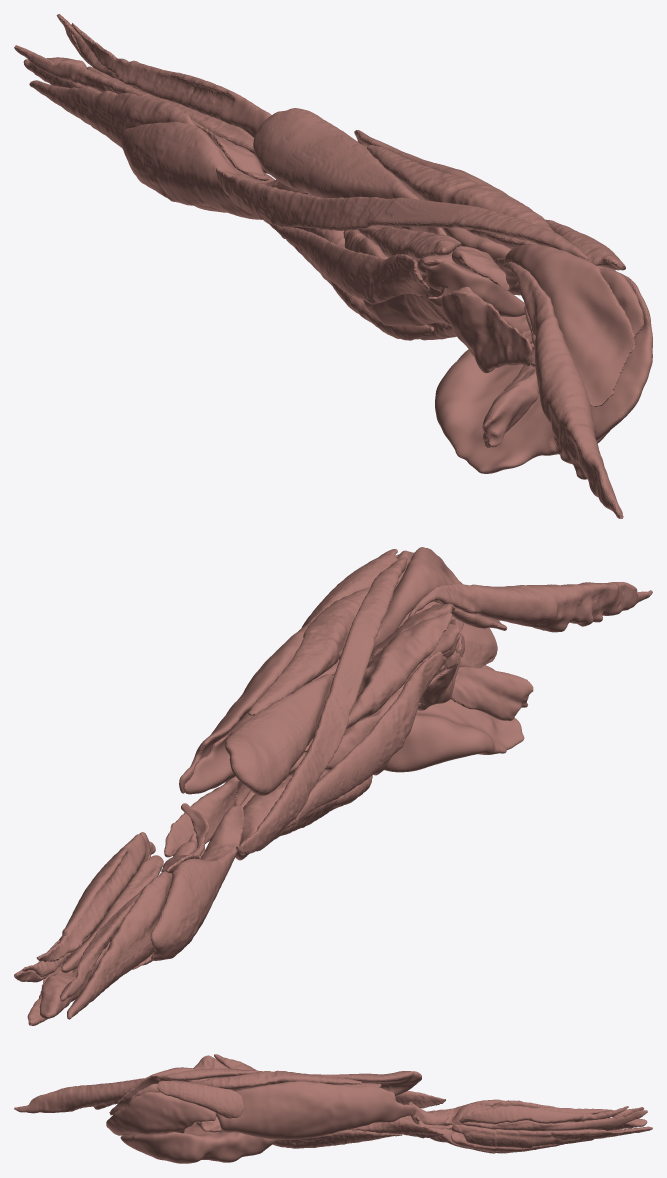
The model's file is vhf-right-muscle.glb.
The picture shows the model from 3 angles, top to bottom: view 1: azimuth 30°, elevation 25°; view 2: azimuth 150°, elevation 25°; view 3: azimuth 270°, elevation 25°; orthographic projection. The views are drawn at different scales.
Visible parts, largest first — view 1: vhf-right-muscle-illiacus, vhf-right-muscle-sartorius, vhf-right-muscle-vastusmedialis, vhf-right-muscle-psoasmajor, vhf-right-muscle-gluteusmaximus, vhf-right-muscle-gastrocnemiusmedial, vhf-right-muscle-gracilis, vhf-right-muscle-tibialisanterior, vhf-right-muscle-rectusfemoris, vhf-right-muscle-soleus, vhf-right-muscle-obturatorinternus, vhf-right-muscle-gluteusmedius (+14 smaller); view 2: vhf-right-muscle-sartorius, vhf-right-muscle-psoasmajor, vhf-right-muscle-vastusmedialis, vhf-right-muscle-gastrocnemiusmedial, vhf-right-muscle-gluteusmaximus, vhf-right-muscle-gracilis, vhf-right-muscle-rectusfemoris, vhf-right-muscle-soleus, vhf-right-muscle-adductorlongus, vhf-right-muscle-tibialisanterior, vhf-right-muscle-illiacus, vhf-right-muscle-piriformis (+12 smaller); view 3: vhf-right-muscle-vastuslateralis, vhf-right-muscle-gluteusmaximus, vhf-right-muscle-gluteusmedius, vhf-right-muscle-peroneuslongus, vhf-right-muscle-psoasmajor, vhf-right-muscle-tibialisanterior, vhf-right-muscle-tensorfasciaelatae, vhf-right-muscle-rectusfemoris, vhf-right-muscle-extensordigitorumlongus, vhf-right-muscle-sartorius, vhf-right-muscle-bicepsfemorislonghead, vhf-right-muscle-vastusmedialis (+12 smaller).
Boxes of the visible parts, box(x1,y1,x2,y2) form: vhf-right-muscle-illiacus: box(494, 244, 635, 407); vhf-right-muscle-sartorius: box(216, 167, 588, 260); vhf-right-muscle-vastusmedialis: box(253, 108, 446, 235); vhf-right-muscle-psoasmajor: box(504, 262, 623, 518); vhf-right-muscle-gluteusmaximus: box(435, 349, 610, 473); vhf-right-muscle-gastrocnemiusmedial: box(121, 121, 297, 219); vhf-right-muscle-gracilis: box(270, 223, 429, 304); vhf-right-muscle-tibialisanterior: box(71, 23, 271, 137); vhf-right-muscle-rectusfemoris: box(367, 145, 554, 248); vhf-right-muscle-soleus: box(29, 80, 274, 181); vhf-right-muscle-obturatorinternus: box(441, 286, 532, 373); vhf-right-muscle-gluteusmedius: box(590, 265, 652, 440); vhf-right-muscle-sartorius: box(236, 557, 407, 853); vhf-right-muscle-psoasmajor: box(408, 582, 652, 632); vhf-right-muscle-vastusmedialis: box(225, 674, 333, 795); vhf-right-muscle-gastrocnemiusmedial: box(150, 805, 244, 960); vhf-right-muscle-gluteusmaximus: box(384, 665, 524, 772); vhf-right-muscle-gracilis: box(285, 651, 446, 828); vhf-right-muscle-rectusfemoris: box(248, 587, 370, 715); vhf-right-muscle-soleus: box(67, 871, 172, 1019); vhf-right-muscle-adductorlongus: box(304, 613, 452, 752); vhf-right-muscle-tibialisanterior: box(36, 832, 150, 961); vhf-right-muscle-illiacus: box(373, 547, 507, 648); vhf-right-muscle-piriformis: box(450, 666, 533, 720); vhf-right-muscle-vastuslateralis: box(216, 1081, 416, 1139); vhf-right-muscle-gluteusmaximus: box(120, 1122, 276, 1163); vhf-right-muscle-gluteusmedius: box(106, 1092, 216, 1135); vhf-right-muscle-peroneuslongus: box(451, 1124, 652, 1148); vhf-right-muscle-psoasmajor: box(14, 1078, 144, 1113); vhf-right-muscle-tibialisanterior: box(459, 1105, 628, 1124); vhf-right-muscle-tensorfasciaelatae: box(156, 1080, 244, 1118); vhf-right-muscle-rectusfemoris: box(193, 1070, 361, 1090); vhf-right-muscle-extensordigitorumlongus: box(462, 1110, 647, 1131); vhf-right-muscle-sartorius: box(166, 1068, 445, 1108); vhf-right-muscle-bicepsfemorislonghead: box(272, 1129, 402, 1148); vhf-right-muscle-vastusmedialis: box(311, 1071, 421, 1095).
Size of the model in its own units: 162 by 167 by 1019.
